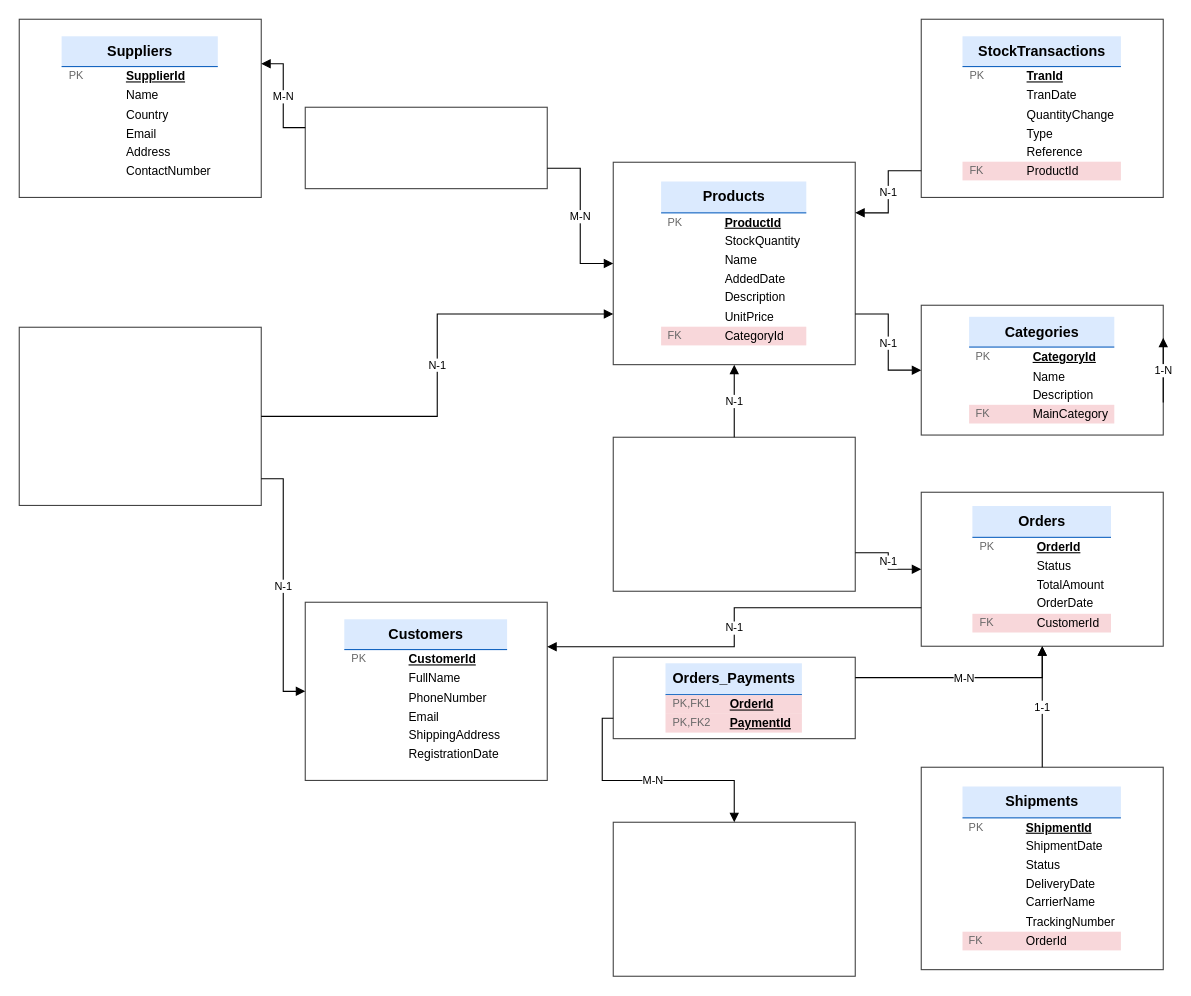
Some shapes in this 1191 by 996 pixel diagram are drawn without their labels. Each missing label, with the centre of its shape:
"OrderItems PK OrderItemId Quantity UnitPrice FK ProductId FK OrderId" belongs at pixel 733 513.
"Payments PK PaymentId PaymentDate Amount Status Method" belongs at pixel 733 898.
"Products_Suppliers PK,FK1 SupplierId PK,FK2 ProductId" belongs at pixel 425 147.
"Reviews PK ReviewId Rating Date Comment FK ProductID FK CustomerId" belongs at pixel 139 415.
